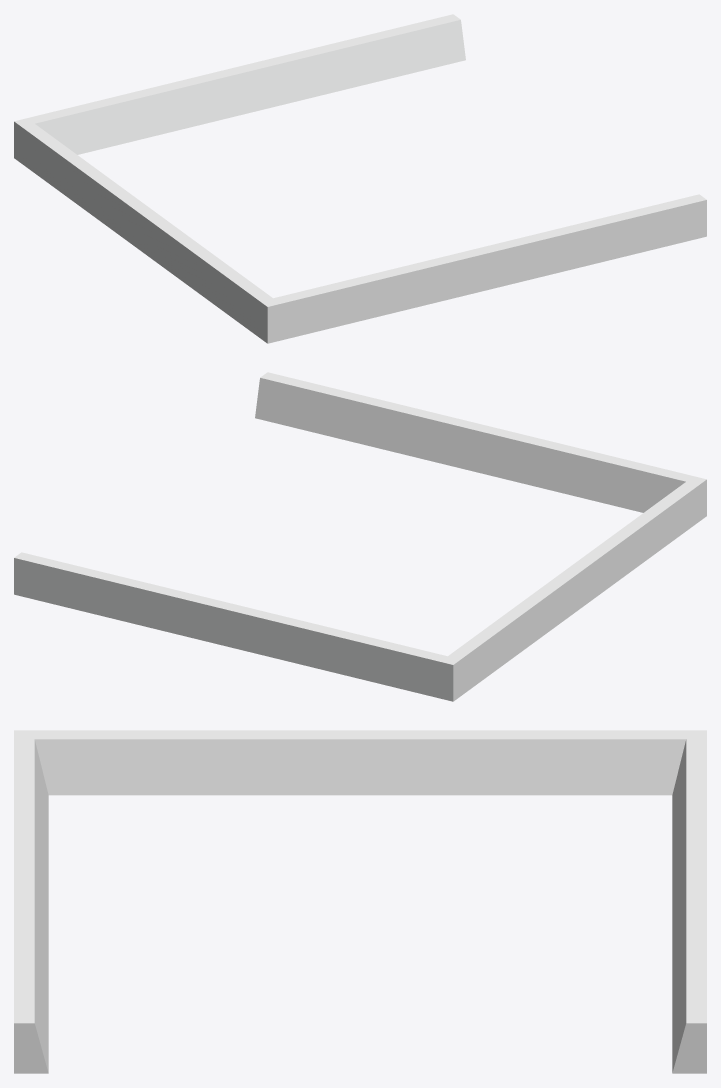
File: kenney-city-roads-road-end-barrier.glb
3 views of the same model, one above another, from view 1: azimuth 30°, elevation 25°; view 2: azimuth 150°, elevation 25°; view 3: azimuth 270°, elevation 25° (orthographic). The views are drawn at different scales.
Visible parts, largest first — view 1: road-end-barrier; view 2: road-end-barrier; view 3: road-end-barrier.
Part boxes in pixels (x1,y1,x2,y2): road-end-barrier: (14, 14, 706, 343); road-end-barrier: (14, 372, 706, 701); road-end-barrier: (14, 730, 706, 1073).
Bounding box in the file's own units: 1 × 0.08 × 1.
Materials: 1 (1 with a texture image).
